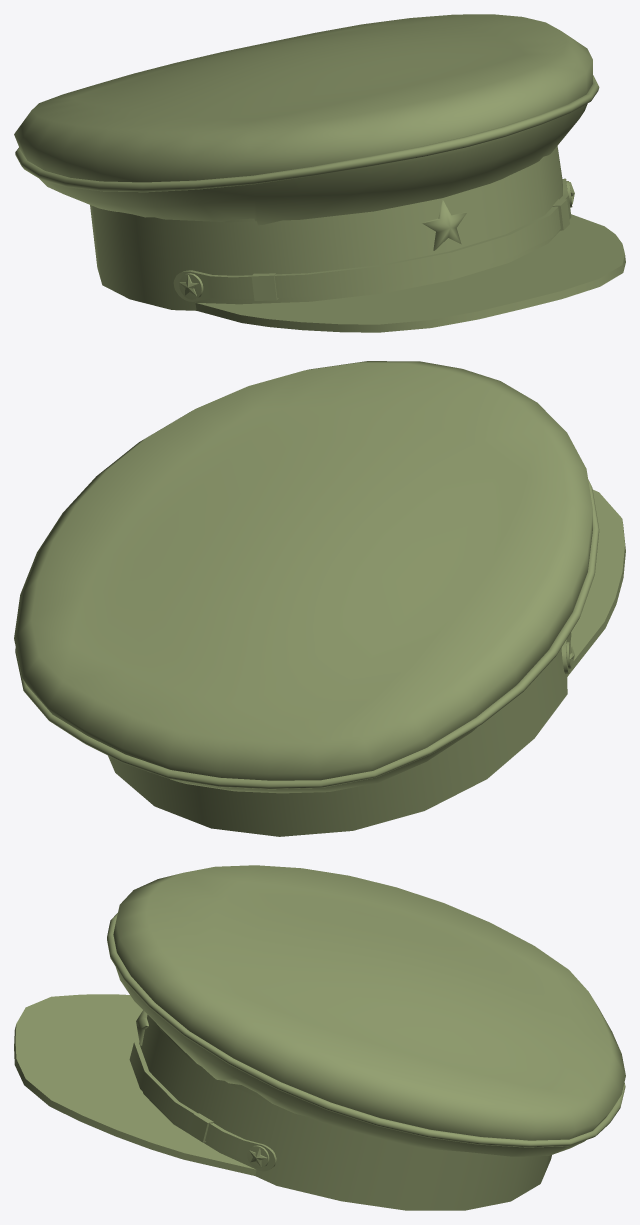
Rendered from Tanky_Soldier_Helmet_Type_3.fbx.
3 renders of one model, top to bottom at view 1: azimuth 30°, elevation 25°; view 2: azimuth 150°, elevation 25°; view 3: azimuth 270°, elevation 25°, orthographic. The views are drawn at different scales.
Visible parts, largest first — view 1: Tanky_Soldier_Helmet_Type_3; view 2: Tanky_Soldier_Helmet_Type_3; view 3: Tanky_Soldier_Helmet_Type_3.
Part boxes in pixels (bbox=[...]): Tanky_Soldier_Helmet_Type_3: bbox=[14, 14, 625, 332]; Tanky_Soldier_Helmet_Type_3: bbox=[14, 361, 625, 836]; Tanky_Soldier_Helmet_Type_3: bbox=[14, 865, 625, 1210].
Size of the model in its own units: 31.55 by 17.58 by 39.28.
